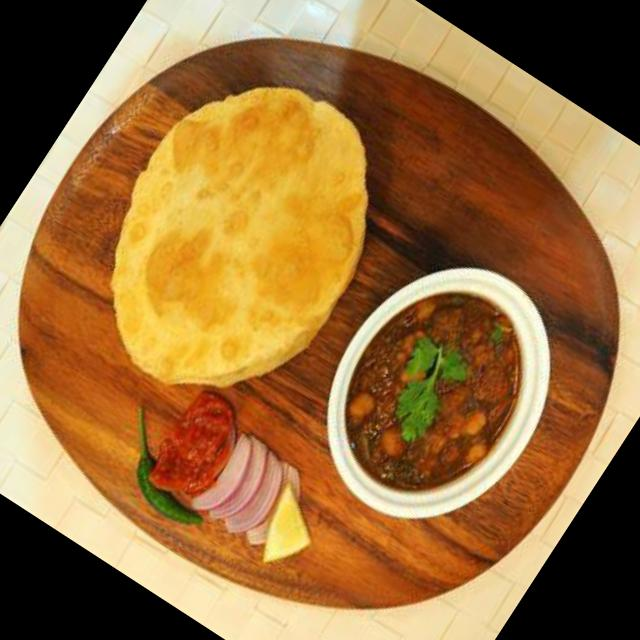Bhatura: (49, 37, 427, 439)
Chole: (326, 280, 547, 516)
